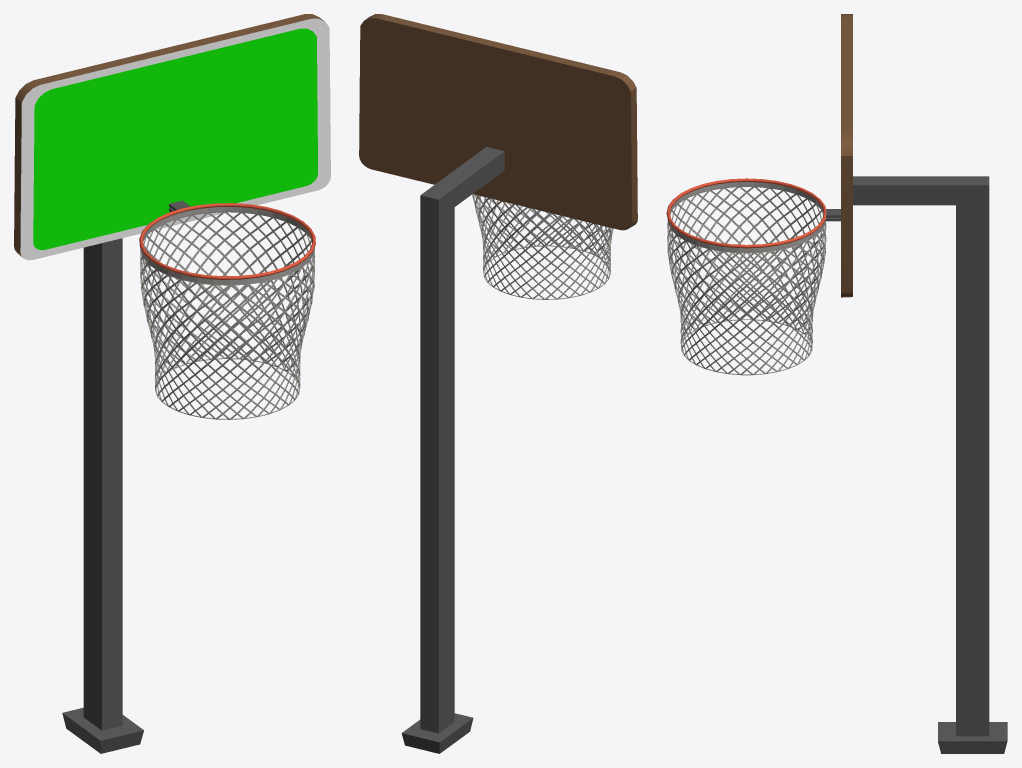
File: basketball Ring.fbx
3 views of the same model, side by side, from view 1: azimuth 30°, elevation 25°; view 2: azimuth 150°, elevation 25°; view 3: azimuth 270°, elevation 25° (orthographic). The views are drawn at different scales.
Parts seen in each view (by area): view 1: Cube.001, Cube.003, Cylinder, Circle; view 2: Cube.001, Cube.003, Cylinder; view 3: Cube.003, Cylinder, Cube.001, Circle.
Boxes of the visible parts, box(x1,y1,x2,y2) form: Cube.001: box(14, 14, 330, 260); Cube.003: box(62, 238, 143, 753); Cylinder: box(140, 207, 314, 419); Circle: box(139, 203, 315, 279); Cube.001: box(359, 14, 637, 230); Cube.003: box(401, 147, 504, 753); Cylinder: box(472, 194, 613, 299); Cube.003: box(853, 176, 1007, 753); Cylinder: box(667, 182, 826, 375); Cube.001: box(841, 14, 852, 297); Circle: box(666, 178, 826, 248).
Bounding box in the file's own units: 409 × 929 × 429.
